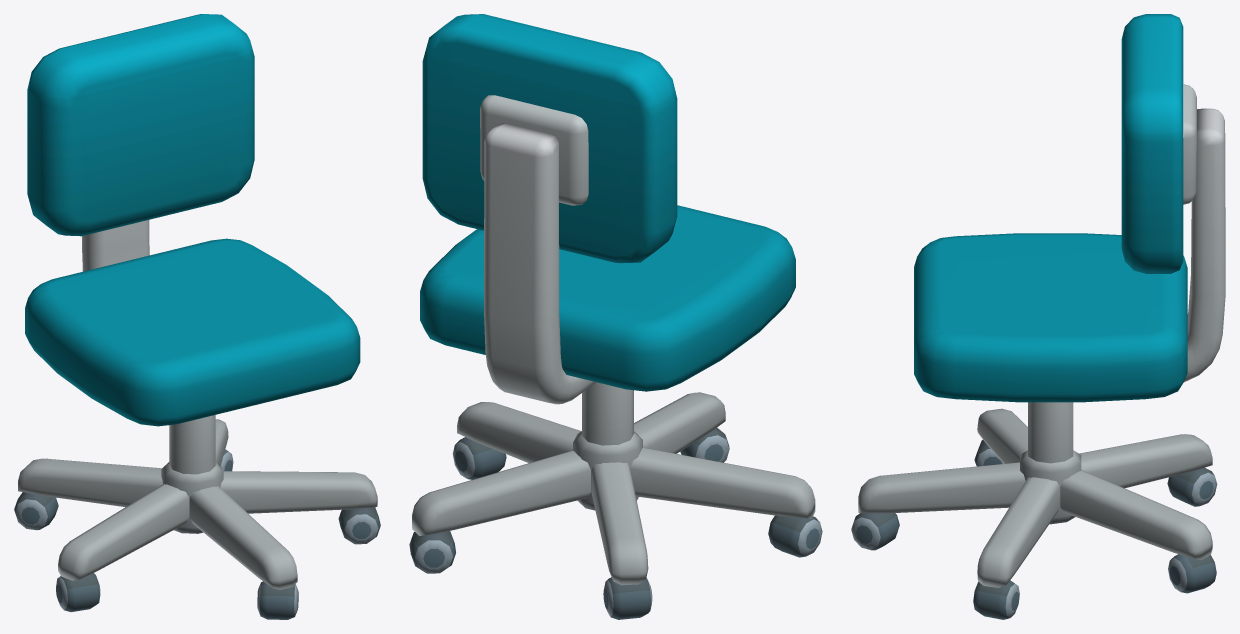
Rendered from Chair_PC_03.glb.
3 views of the same model, side by side, from view 1: azimuth 30°, elevation 25°; view 2: azimuth 150°, elevation 25°; view 3: azimuth 270°, elevation 25° (orthographic). The views are drawn at different scales.
Visible parts, largest first — view 1: Chair_PC_03; view 2: Chair_PC_03; view 3: Chair_PC_03.
Boxes of the visible parts, <box> form: Chair_PC_03: <box>14,14,380,619</box>; Chair_PC_03: <box>409,14,822,619</box>; Chair_PC_03: <box>851,14,1225,619</box>.
Bounding box in the file's own units: 0.7285 × 1.05 × 0.721.
Materials: 1 (1 with a texture image).
